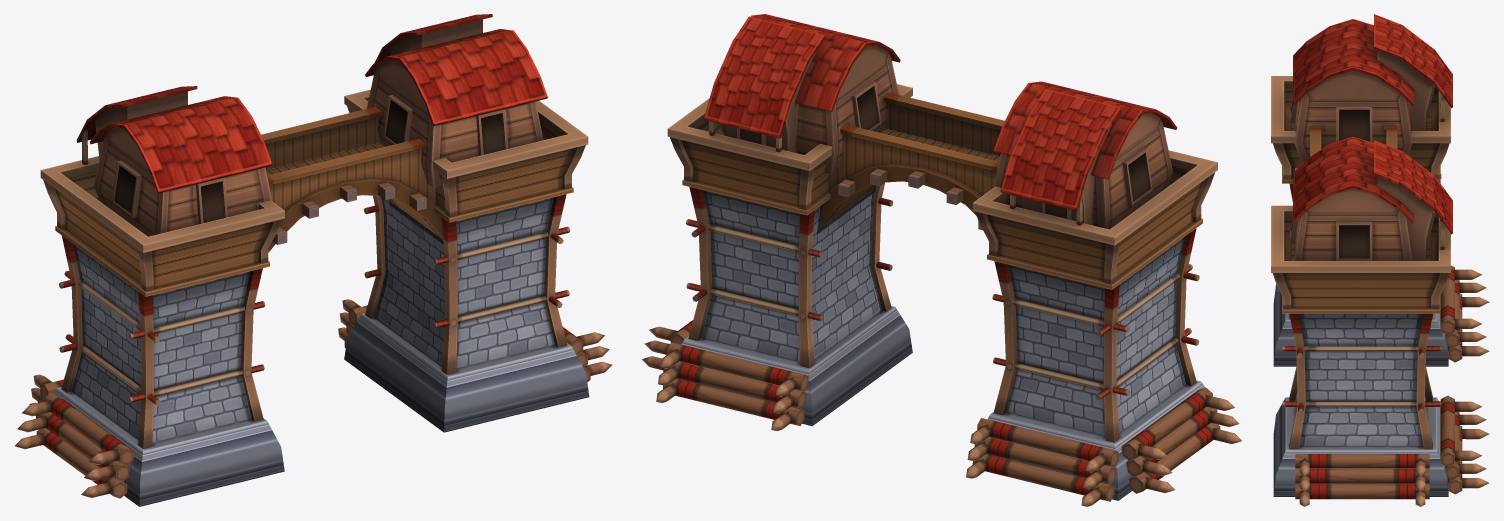
The model's file is GIANT_Gate.FBX.
The picture shows the model from 3 angles, left to right: view 1: azimuth 30°, elevation 25°; view 2: azimuth 150°, elevation 25°; view 3: azimuth 270°, elevation 25°; orthographic projection. The views are drawn at different scales.
Visible parts, largest first — view 1: GIANT_Gate; view 2: GIANT_Gate; view 3: GIANT_Gate.
Boxes of the visible parts, x1,y1,x2,y2 form: GIANT_Gate: (15,14,612,506); GIANT_Gate: (642,14,1241,506); GIANT_Gate: (1271,14,1489,506).
Bounding box in the file's own units: 159 × 101 × 64.87.
